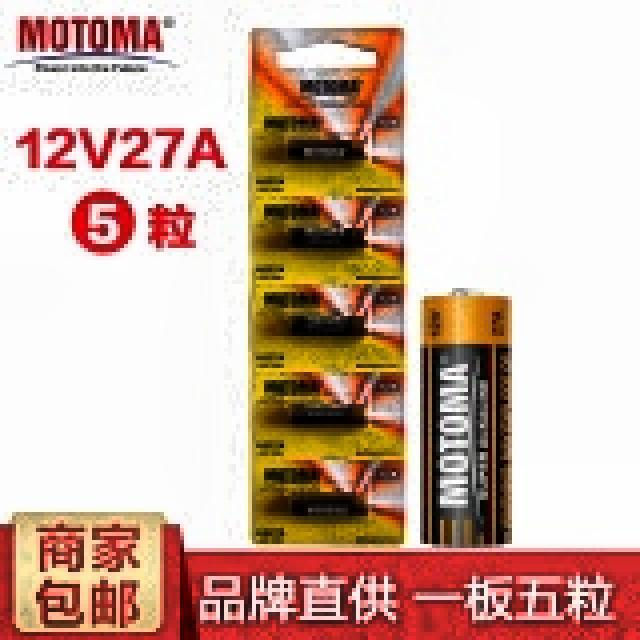battery: (424, 296, 510, 545)
